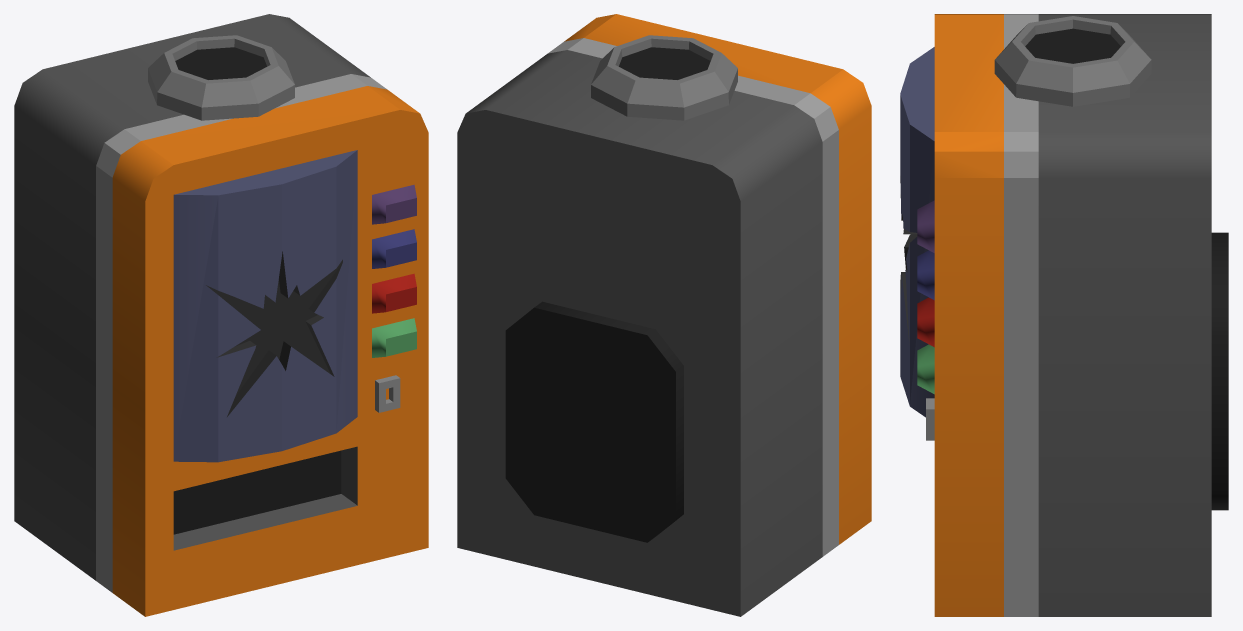
Rendered from DestroyedVendingMachine.glb.
3 views of the same model, side by side, from view 1: azimuth 30°, elevation 25°; view 2: azimuth 150°, elevation 25°; view 3: azimuth 270°, elevation 25° (orthographic). The views are drawn at different scales.
Visible parts, largest first — view 1: vending-machine, EmitterDead; view 2: vending-machine, EmitterDead; view 3: vending-machine, EmitterDead.
Boxes of the visible parts, x1,y1,x2,y2 form: vending-machine: (14, 14, 428, 616); EmitterDead: (148, 35, 294, 120); vending-machine: (457, 14, 871, 616); EmitterDead: (591, 35, 737, 120); vending-machine: (900, 14, 1228, 616); EmitterDead: (994, 16, 1151, 106).
Bounding box in the file's own units: 0.5 × 0.8008 × 0.475.
